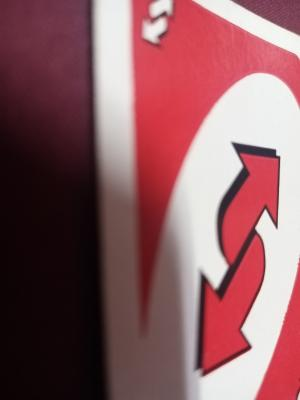reverse: (186, 133, 289, 381), (132, 0, 193, 53)
